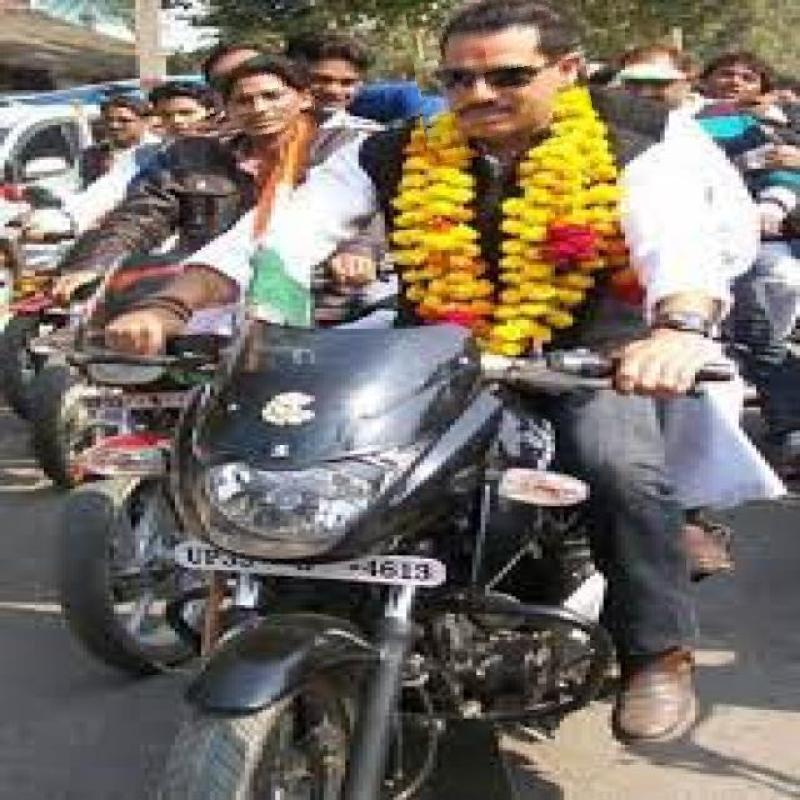nohelmet: (411, 0, 592, 158), (210, 52, 315, 150)
